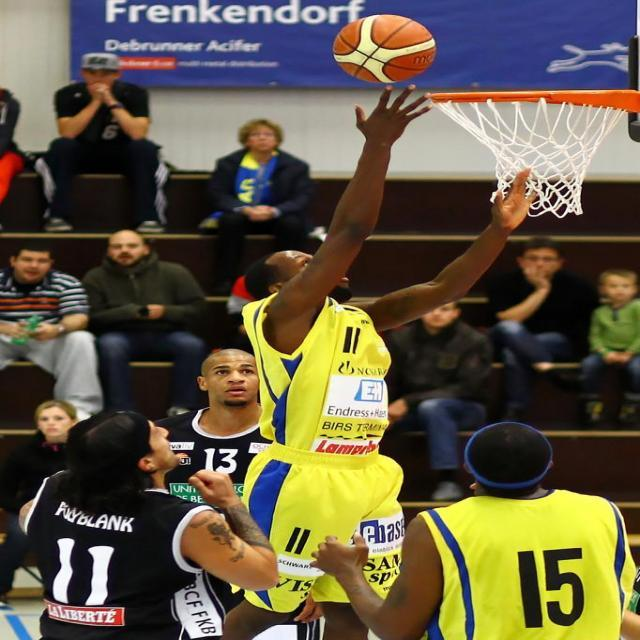rim: (332, 14, 438, 85)
